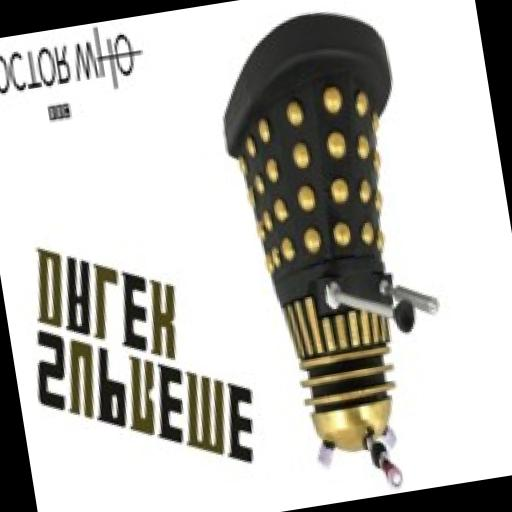dalek: (206, 3, 460, 504)
